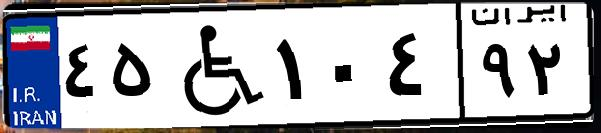0: (330, 28, 385, 110)
1: (270, 28, 330, 110)
2: (525, 38, 570, 115)
4: (385, 28, 445, 110), (57, 26, 110, 100)
5: (110, 28, 158, 98)
9: (475, 38, 525, 113)
ژ (معلولین و جانبازان): (158, 12, 270, 120)
